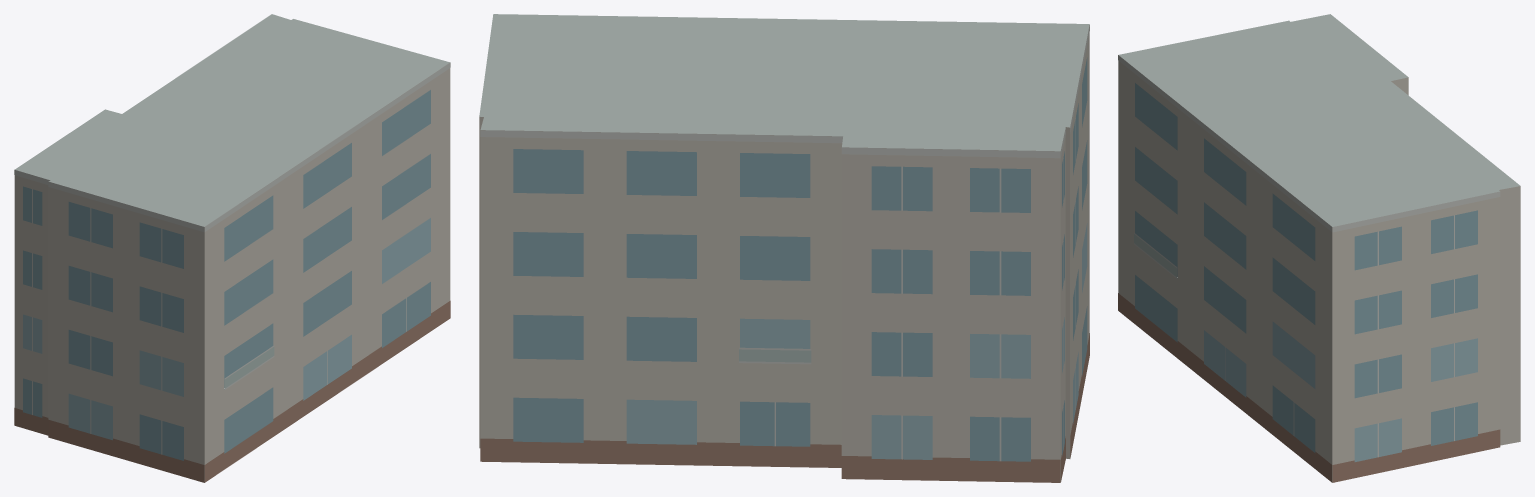
File: survey-upis-32993624.glb
The picture shows the model from 3 angles, left to right: view 1: azimuth 30°, elevation 25°; view 2: azimuth 150°, elevation 25°; view 3: azimuth 270°, elevation 25°; orthographic projection. The views are drawn at different scales.
Parts seen in each view (by area): view 1: survey-upis-32993624.tmp; view 2: survey-upis-32993624.tmp; view 3: survey-upis-32993624.tmp.
Boxes of the visible parts, <box> form: survey-upis-32993624.tmp: <box>14,14,450,482</box>; survey-upis-32993624.tmp: <box>479,14,1089,482</box>; survey-upis-32993624.tmp: <box>1118,14,1520,482</box>.
Bounding box in the file's own units: 20.55 × 11.5 × 16.41.
